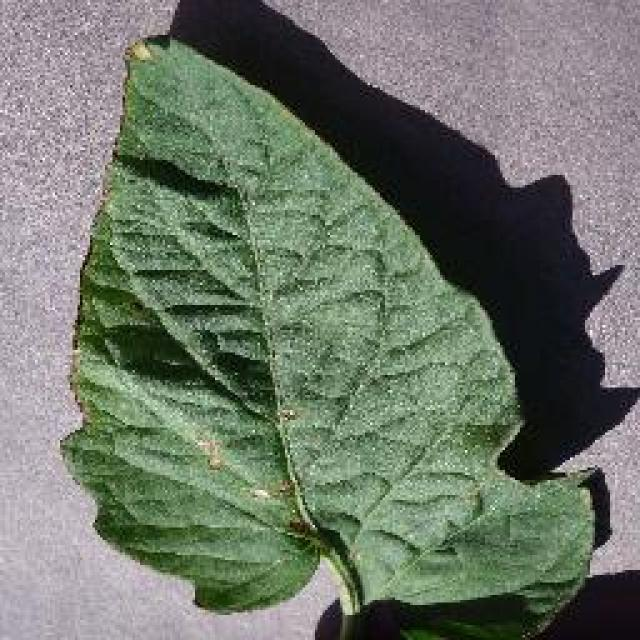Tom_Target_Spot: (186, 391, 316, 519)
